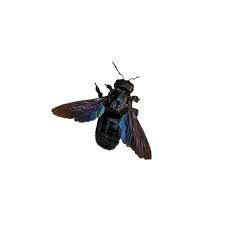Xylocopa: (52, 60, 154, 164)
